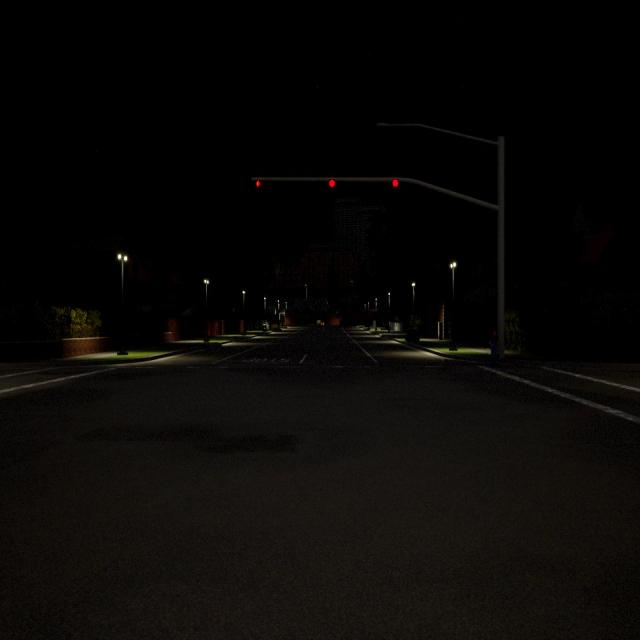Pedestrian: (491, 331, 498, 363)
traffic_light: (329, 180, 335, 187), (393, 179, 398, 187), (256, 181, 261, 187)
